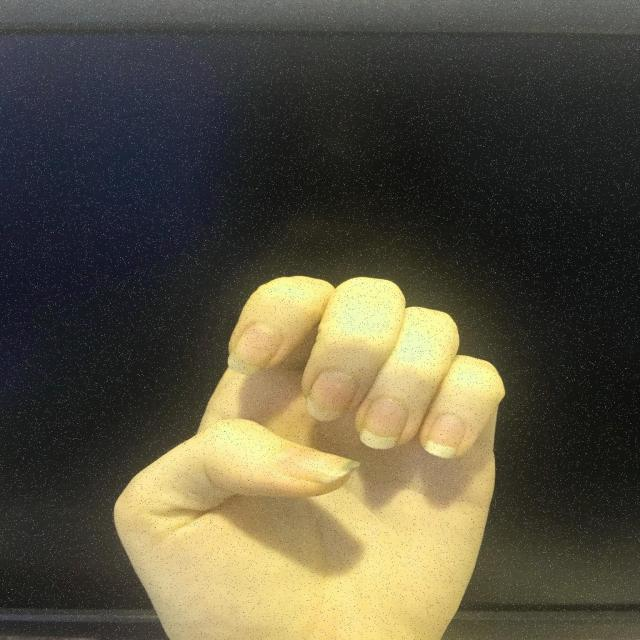E: (107, 269, 517, 640)
